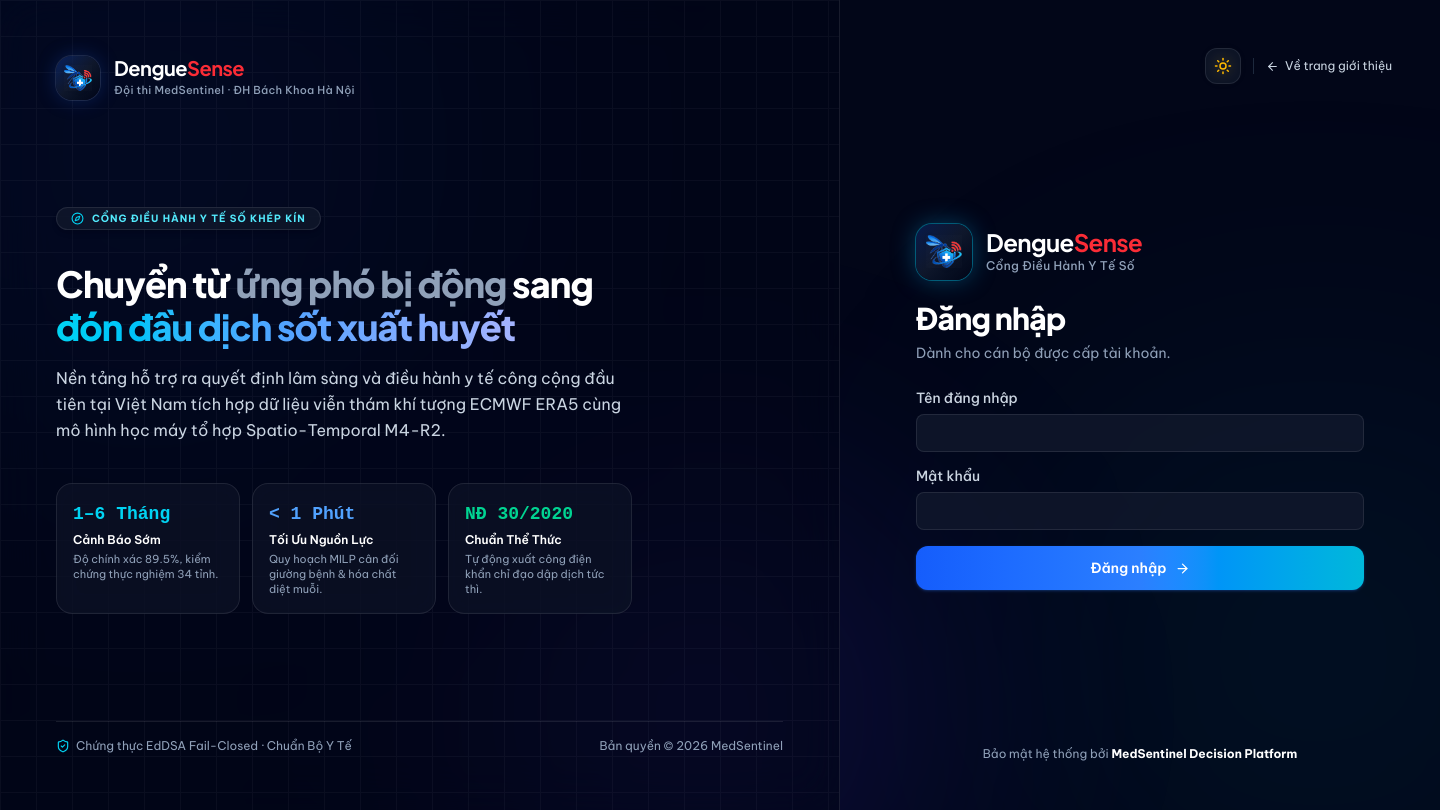
Scenario: đăng nhập › tài khoản bị khoá → thông báo riêng, có hướng dẫn thử lại sau
Check: the heading "Đăng nhập" is shown, box [916, 299, 1065, 337]
Type "demo.xem" into the field labelled "Tên đăng nhập" at (1140, 433), box [916, 414, 1364, 452]
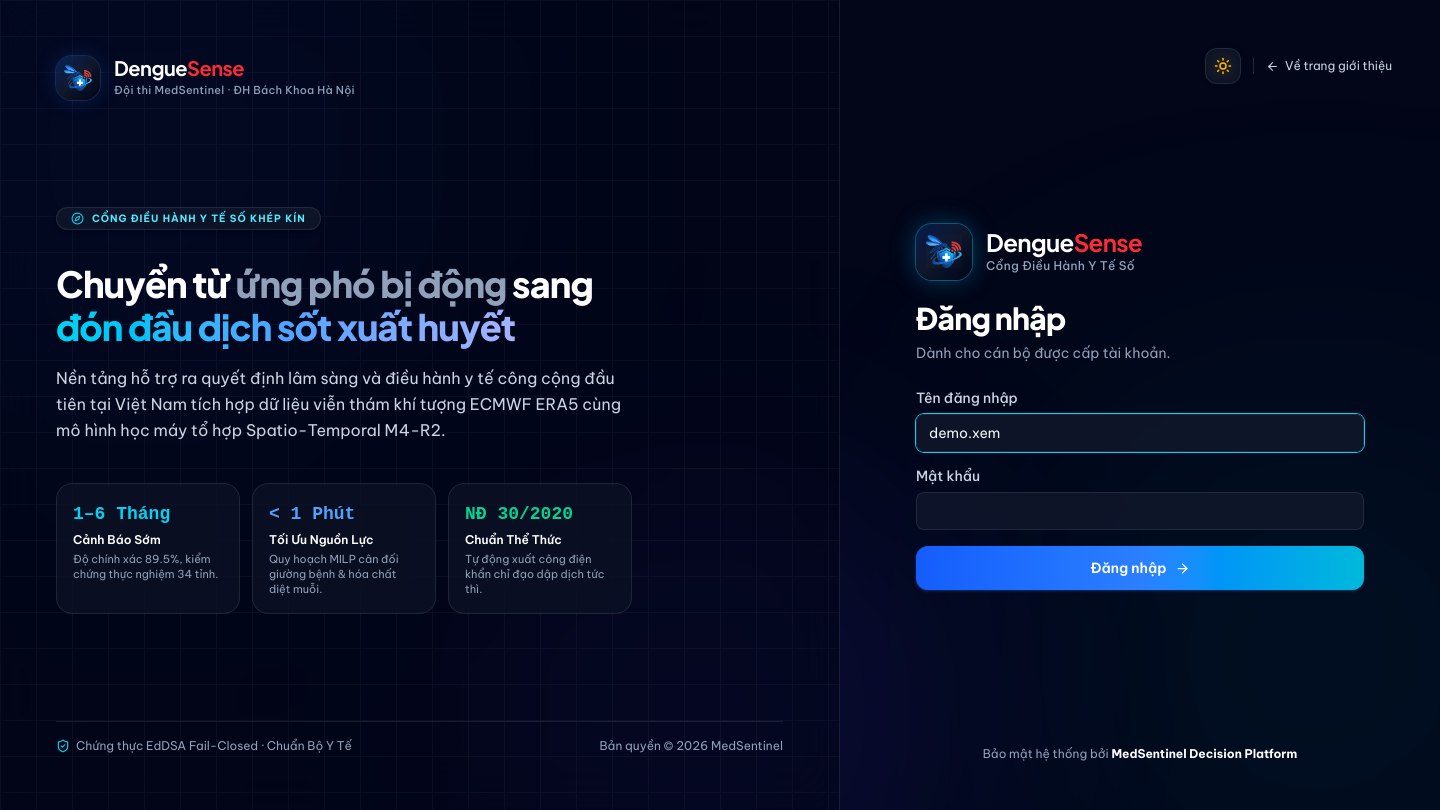
Type "demo-2026-xem" into the password field labelled "Mật khẩu" at (1140, 511), box [916, 492, 1364, 530]
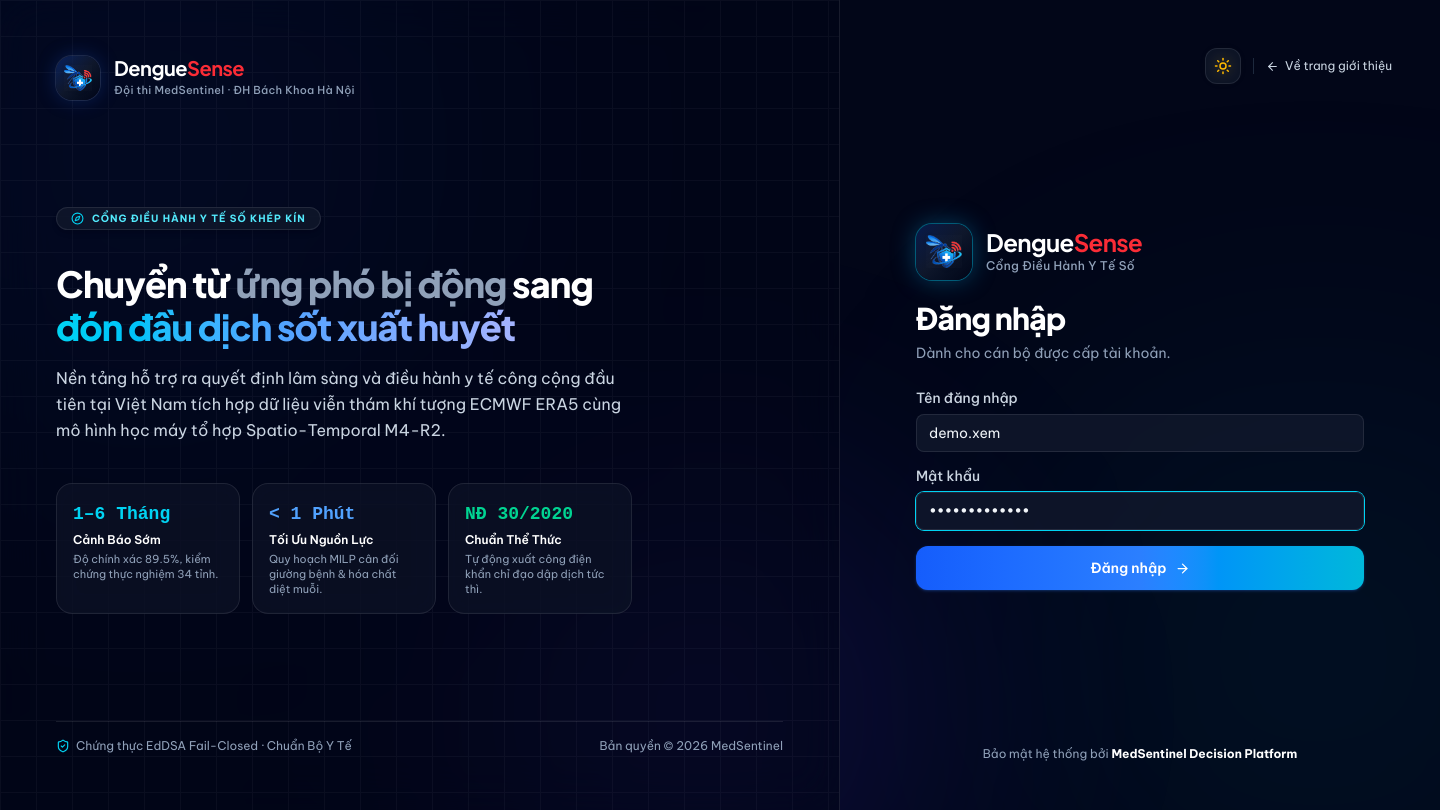
Click the button "Đăng nhập" at (1140, 568), box [916, 546, 1364, 590]
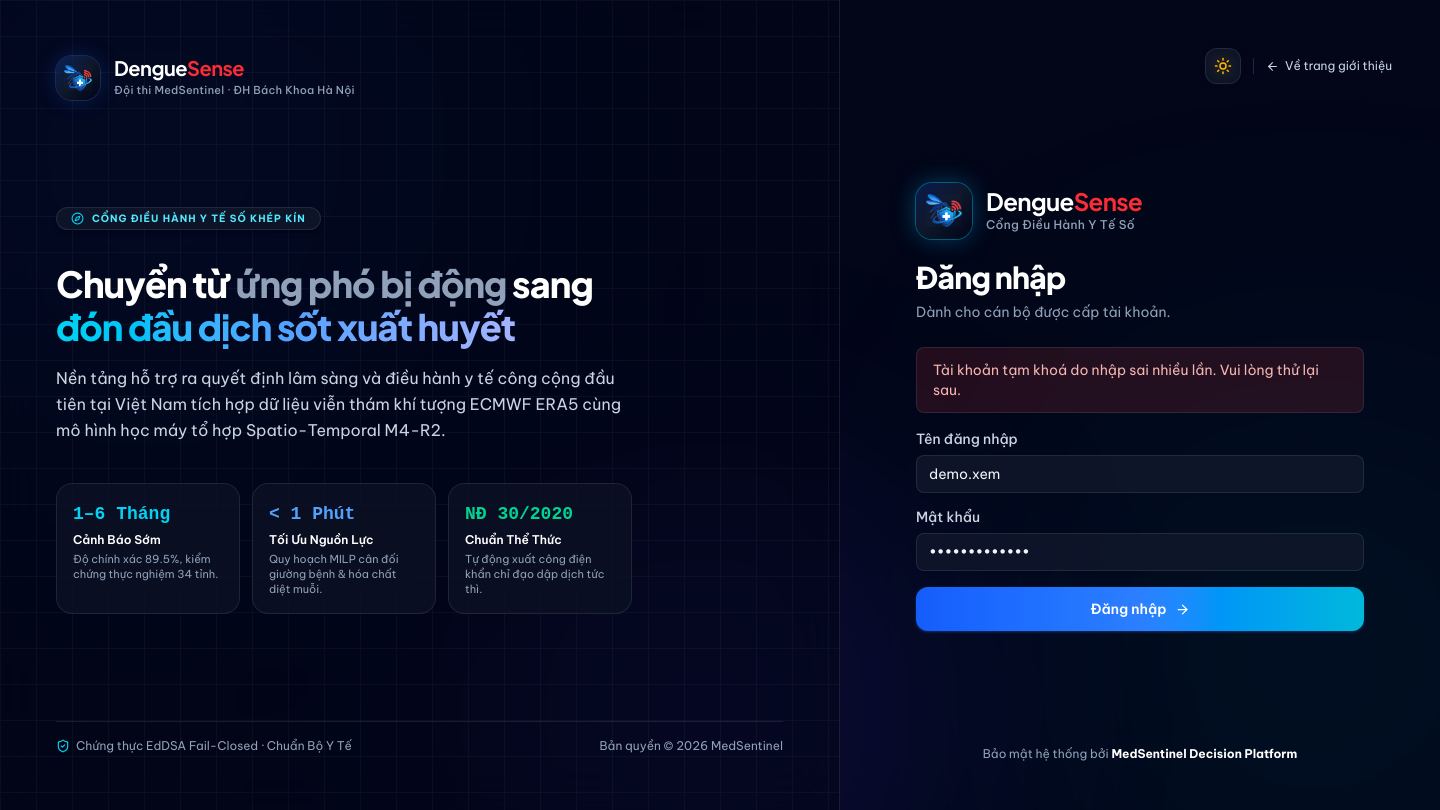
Check: the message shows "tạm khoá", box [933, 361, 1319, 399]
